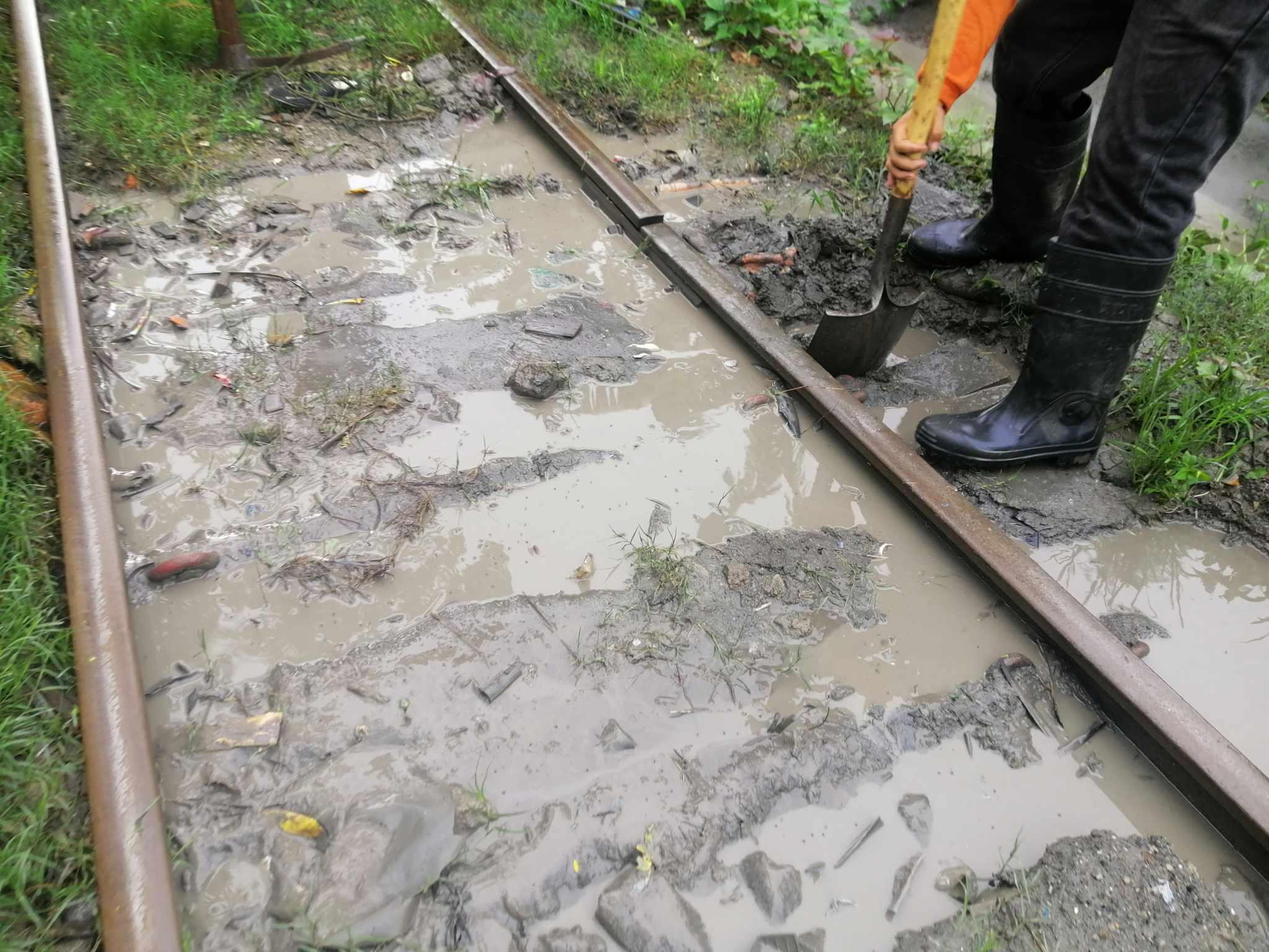railway-gap: (610, 177, 692, 267)
